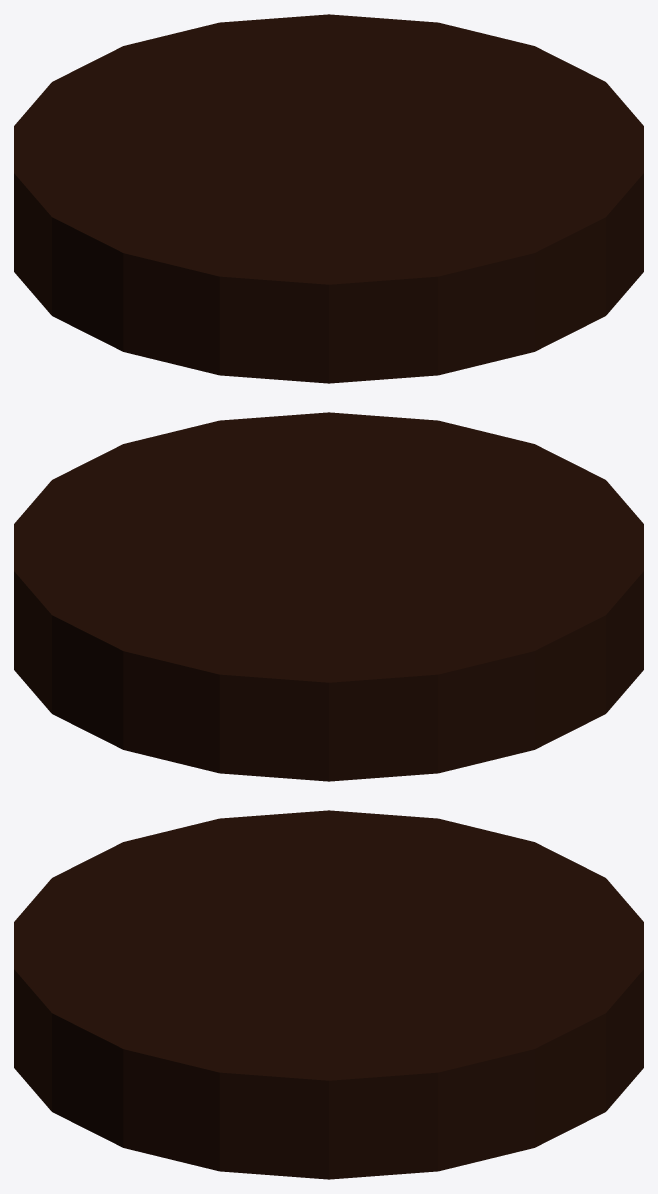
The model's file is Ground.fbx.
3 renders of one model, top to bottom at view 1: azimuth 30°, elevation 25°; view 2: azimuth 150°, elevation 25°; view 3: azimuth 270°, elevation 25°, orthographic.
Parts seen in each view (by area): view 1: Ground; view 2: Ground; view 3: Ground.
Boxes of the visible parts, x1=… form: Ground: x1=14, y1=14, x2=643, y2=383; Ground: x1=14, y1=412, x2=643, y2=781; Ground: x1=14, y1=810, x2=643, y2=1179.
Bounding box in the file's own units: 850 × 145 × 837.
